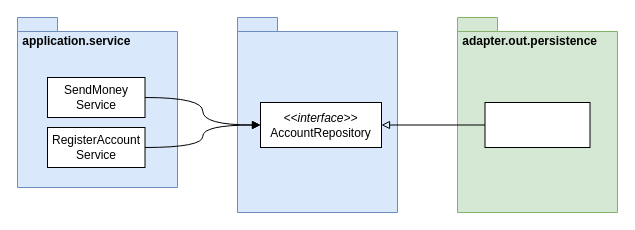
The diagram is 635 pixels wide and 230 high, and some of its shapes have lost their labels. Here are the shapes that lost their labels. From the top down, the box of each, then its label:
(236, 16, 398, 212): application.port.out
(484, 102, 590, 148): Persistence Adapter
